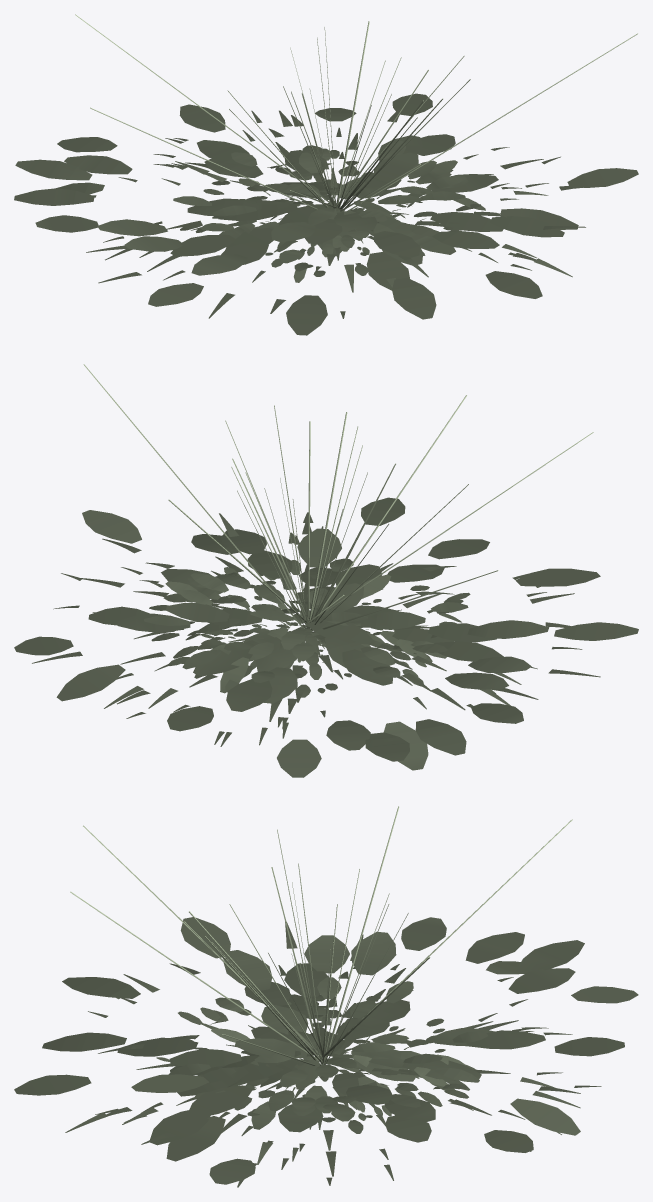
The model's file is herb_mat.glb.
The picture shows the model from 3 angles, top to bottom: view 1: azimuth 30°, elevation 25°; view 2: azimuth 150°, elevation 25°; view 3: azimuth 270°, elevation 25°; orthographic projection. The views are drawn at different scales.
Parts seen in each view (by area): view 1: v3_foliage, v4_foliage, v8_foliage, v6_foliage, v5_foliage, v2_foliage, v0_foliage, v1_foliage; view 2: v3_foliage, v4_foliage, v8_foliage, v6_foliage, v2_foliage, v5_foliage, v0_foliage, v1_foliage; view 3: v3_foliage, v4_foliage, v8_foliage, v6_foliage, v2_foliage, v5_foliage, v0_foliage.
Boxes of the visible parts, x1,y1,x2,y2 form: v3_foliage: [14, 14, 638, 335]; v4_foliage: [173, 55, 485, 263]; v8_foliage: [86, 100, 605, 318]; v6_foliage: [90, 33, 637, 318]; v5_foliage: [180, 86, 481, 282]; v2_foliage: [211, 57, 470, 275]; v0_foliage: [219, 90, 425, 259]; v1_foliage: [260, 27, 414, 250]; v3_foliage: [14, 432, 638, 777]; v4_foliage: [144, 420, 468, 693]; v8_foliage: [32, 395, 600, 721]; v6_foliage: [53, 364, 582, 746]; v2_foliage: [149, 405, 463, 697]; v5_foliage: [168, 445, 470, 692]; v0_foliage: [185, 484, 468, 693]; v1_foliage: [214, 472, 367, 662]; v3_foliage: [14, 819, 638, 1184]; v4_foliage: [168, 942, 487, 1129]; v8_foliage: [65, 891, 580, 1187]; v6_foliage: [88, 806, 601, 1185]; v2_foliage: [182, 921, 469, 1133]; v5_foliage: [178, 863, 475, 1116]; v0_foliage: [156, 829, 445, 1120].
Bounding box in the file's own units: 3.33 × 1 × 3.23.
